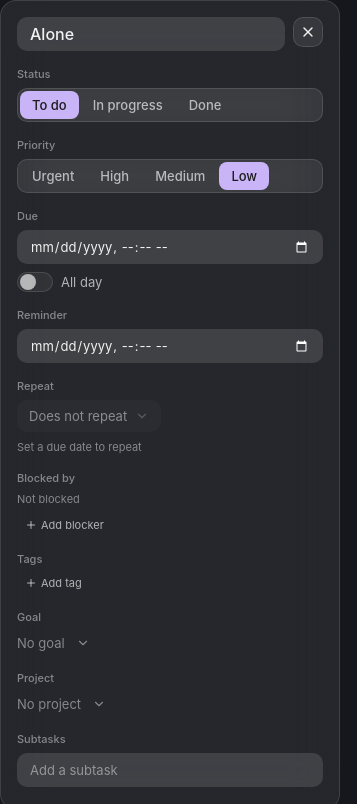
Test: TaskDetailPanel: blocked by › says so when there are no other open tasks
The image size is (357, 804).
Check: the field named "Title" is shown, box [17, 17, 285, 51]
Click the button "Add blocker" at (64, 525), box [17, 515, 112, 535]
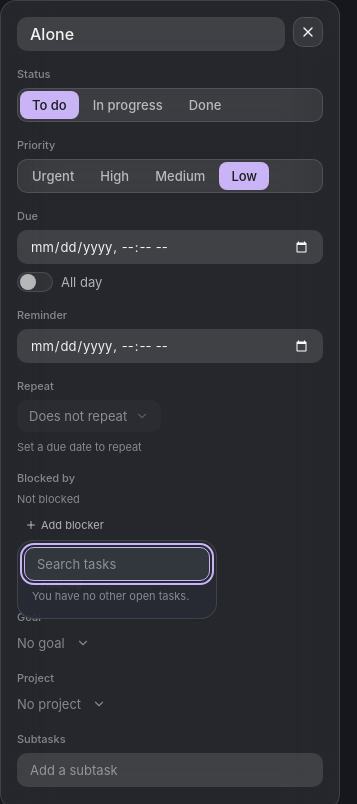
Check: the message reads "You have no other open tasks.", box [32, 589, 189, 603]
